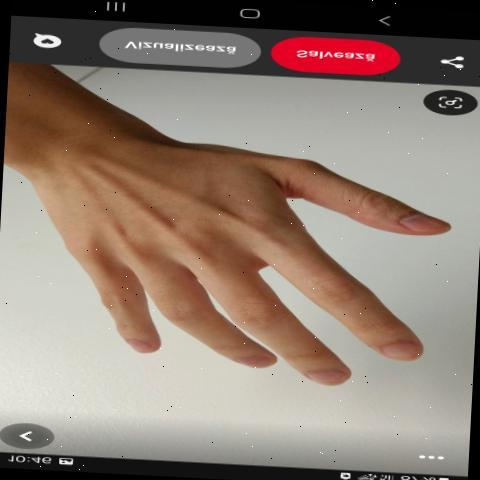Hands: (47, 117, 463, 412)
